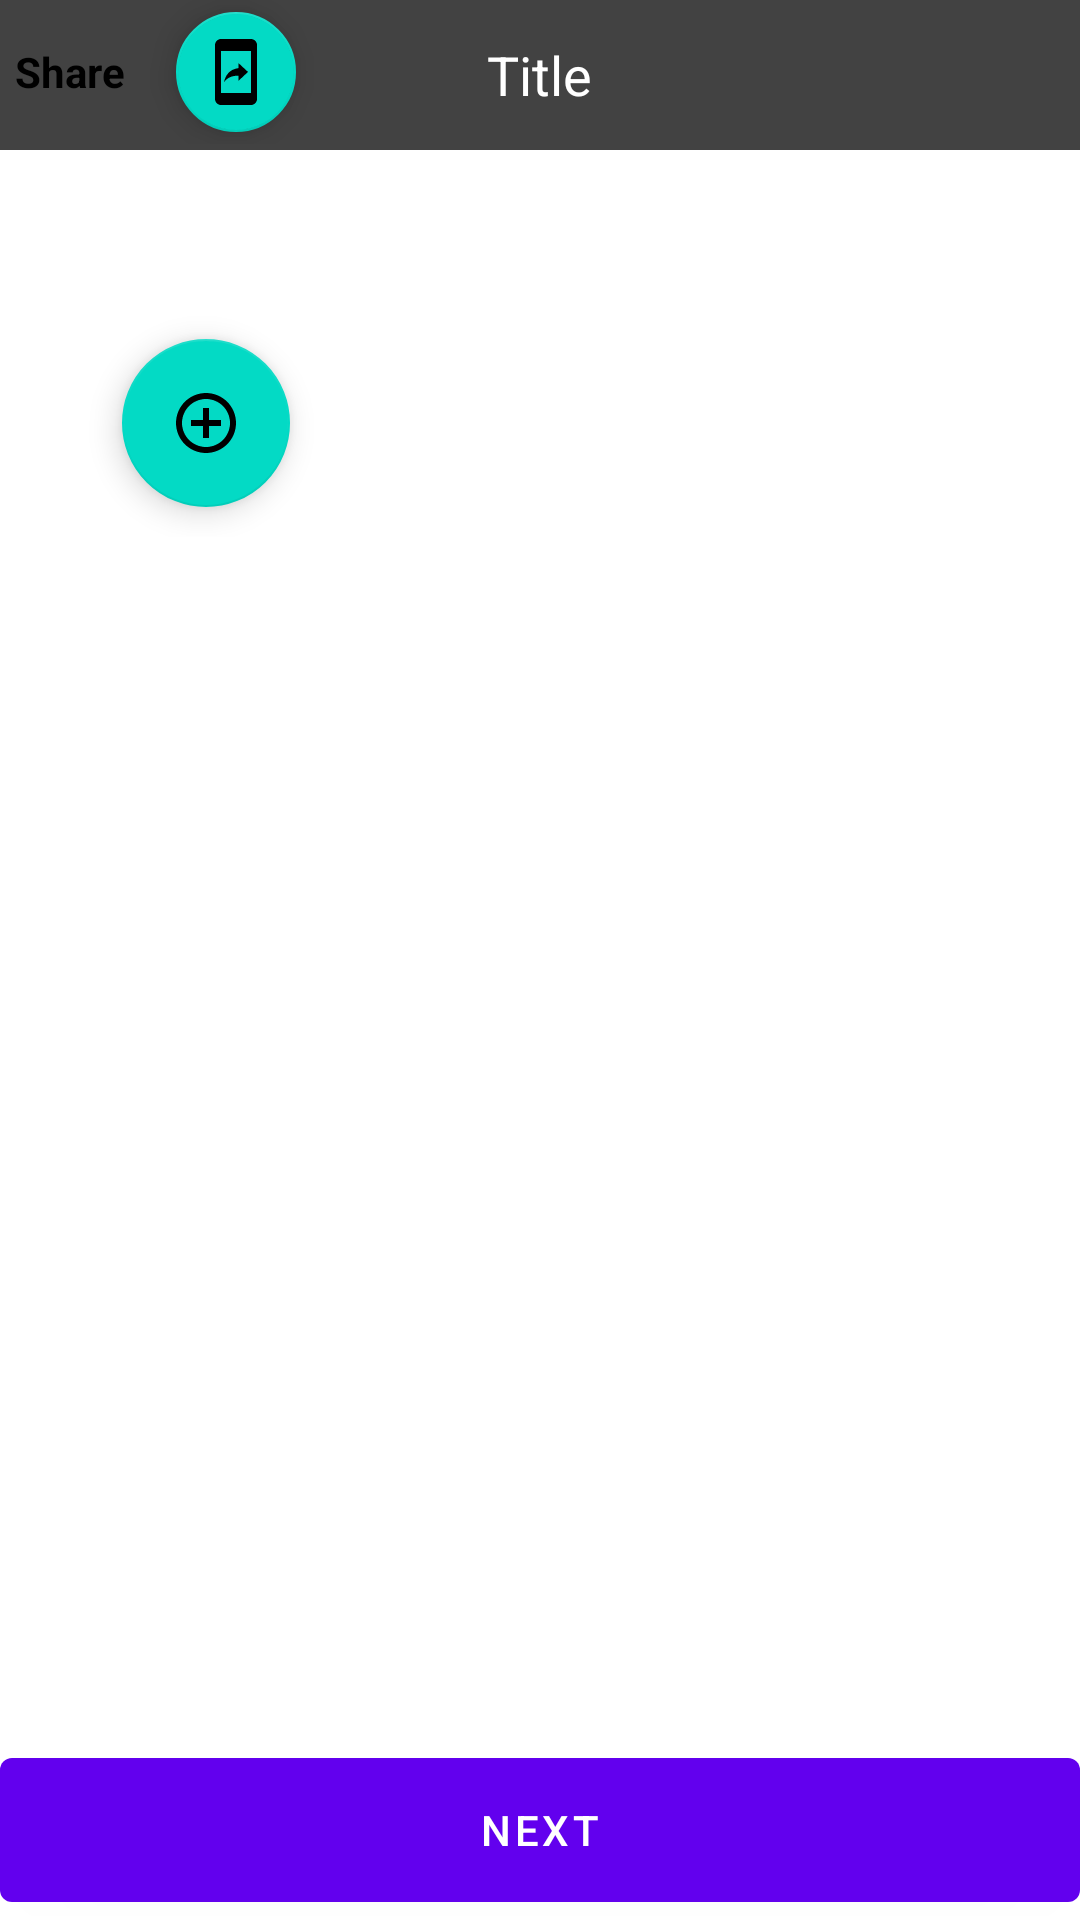

Named icons in this screenshot (1080 × 1920) and their centers, point (x, y):
floating: point (206, 423)
